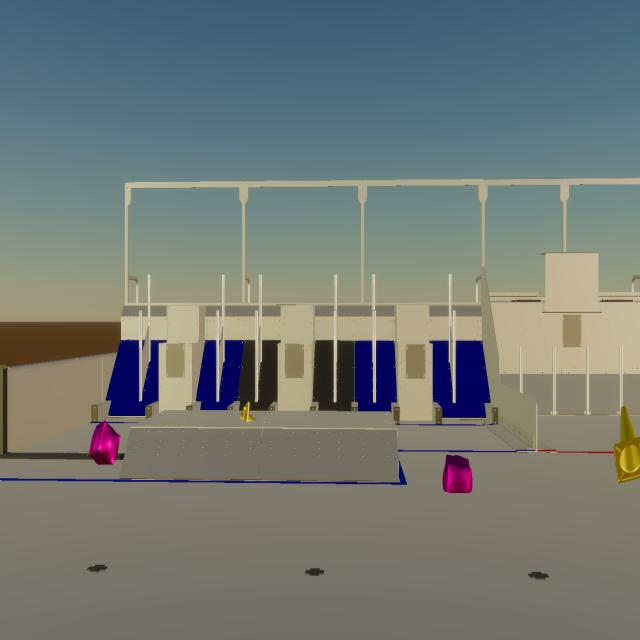frc_cone: (613, 406, 640, 483), (240, 401, 262, 441)
frc_cube: (89, 420, 120, 465), (443, 455, 472, 493)
